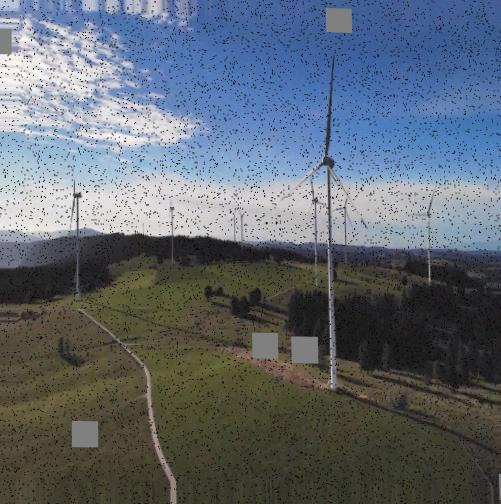wind turbine: (276, 55, 371, 395), (406, 183, 442, 289), (66, 172, 88, 300)
